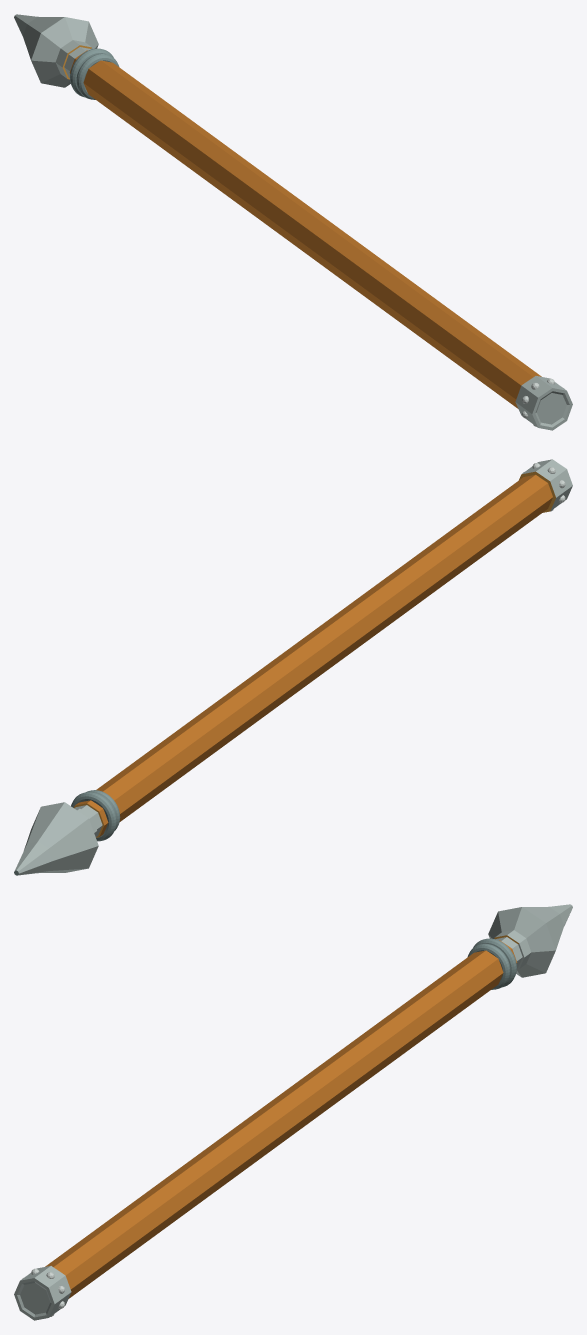
Rendered from Spear.fbx.
3 views of the same model, one above another, from view 1: azimuth 30°, elevation 25°; view 2: azimuth 150°, elevation 25°; view 3: azimuth 330°, elevation 25° (orthographic).
Parts seen in each view (by area): view 1: Cylinder; view 2: Cylinder; view 3: Cylinder.
Boxes of the visible parts, bbox=[...] form: Cylinder: bbox=[14, 14, 572, 430]; Cylinder: bbox=[14, 459, 572, 875]; Cylinder: bbox=[14, 904, 572, 1320].
Bounding box in the file's own units: 231 × 231 × 3169.
1 material, 1 textured.
